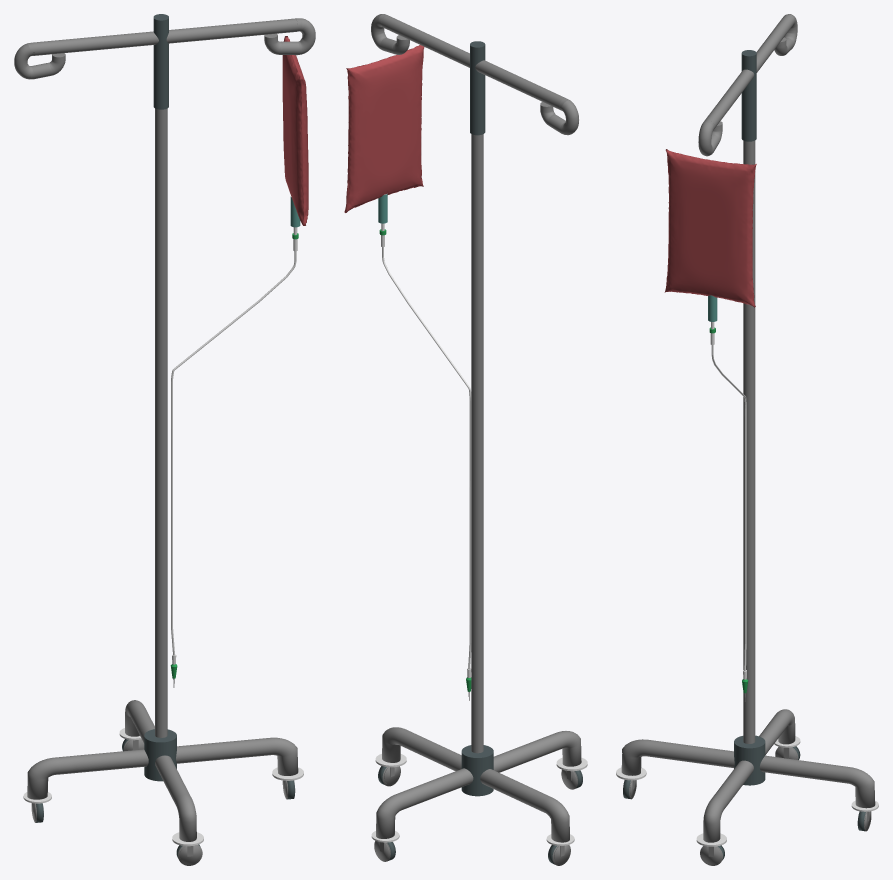
File: capelnisa.fbx
3 views of the same model, side by side, from view 1: azimuth 30°, elevation 25°; view 2: azimuth 150°, elevation 25°; view 3: azimuth 270°, elevation 25° (orthographic). The views are drawn at different scales.
Visible parts, largest first — view 1: Cylinder.094, Cylinder.092, Cube.179, Cylinder.093; view 2: Cylinder.094, Cube.179, Cylinder.092, Cylinder.093; view 3: Cylinder.094, Cube.179, Cylinder.092, Cylinder.093.
Boxes of the visible parts, left/top/right/bottom form: Cylinder.094: left=23, top=14, right=303, bottom=865; Cylinder.092: left=14, top=18, right=315, bottom=79; Cube.179: left=282, top=36, right=308, bottom=225; Cylinder.093: left=170, top=196, right=300, bottom=687; Cylinder.094: left=371, top=41, right=587, bottom=865; Cube.179: left=344, top=45, right=424, bottom=212; Cylinder.092: left=371, top=14, right=578, bottom=135; Cylinder.093: left=378, top=193, right=471, bottom=700; Cylinder.094: left=616, top=50, right=878, bottom=865; Cube.179: left=664, top=149, right=756, bottom=307; Cylinder.092: left=698, top=14, right=797, bottom=156; Cylinder.093: left=708, top=295, right=748, bottom=701.
Size of the model in its own units: 63.18 by 186 by 58.3.
